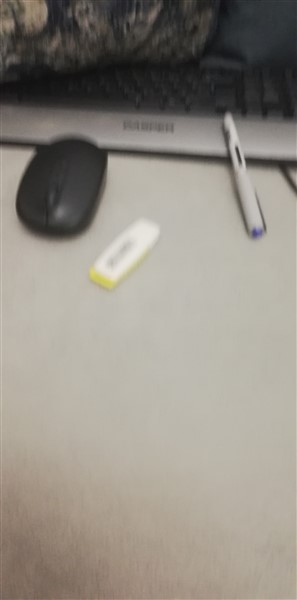flash disk: (88, 215, 166, 296)
klavye: (3, 45, 297, 166)
mouse: (13, 132, 107, 243)
pilot kalem: (218, 112, 276, 248)
